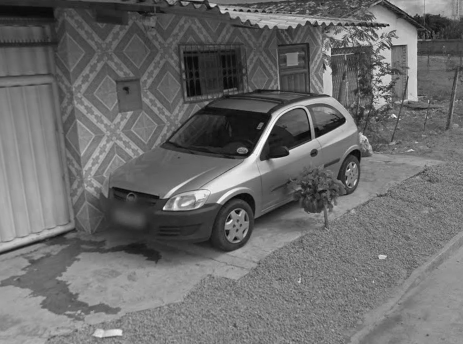car: (99, 87, 362, 252)
